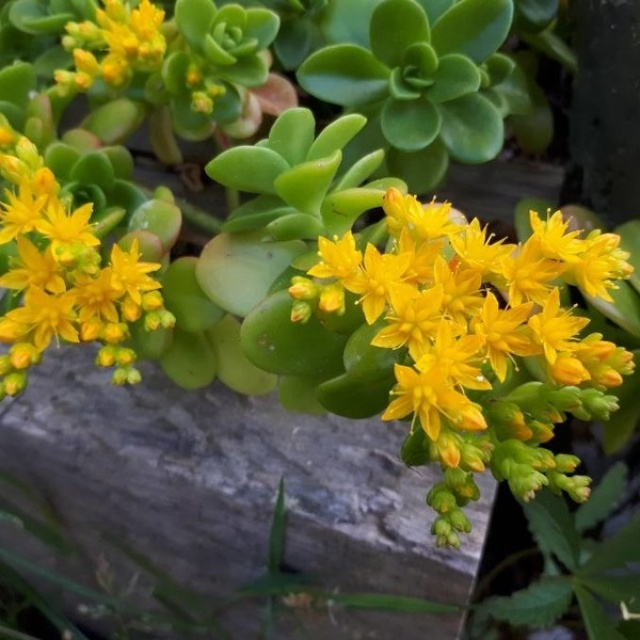obstacle: (194, 105, 608, 513), (12, 123, 201, 395), (273, 9, 523, 171), (7, 7, 275, 139)
